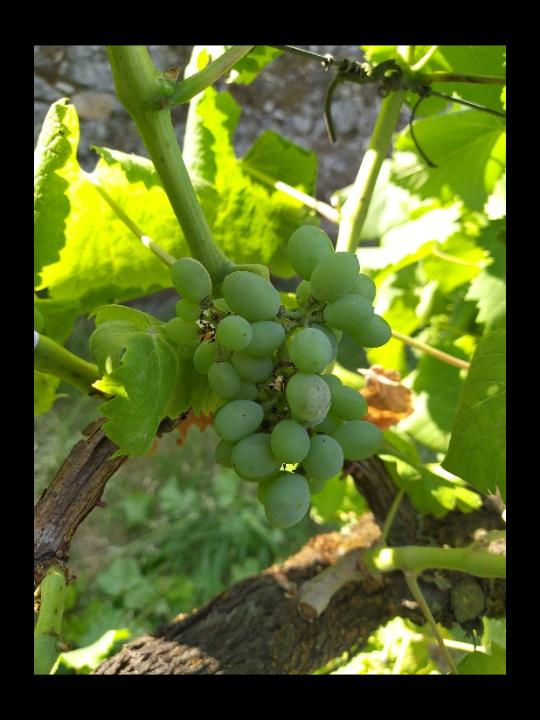grape: (164, 220, 394, 536)
